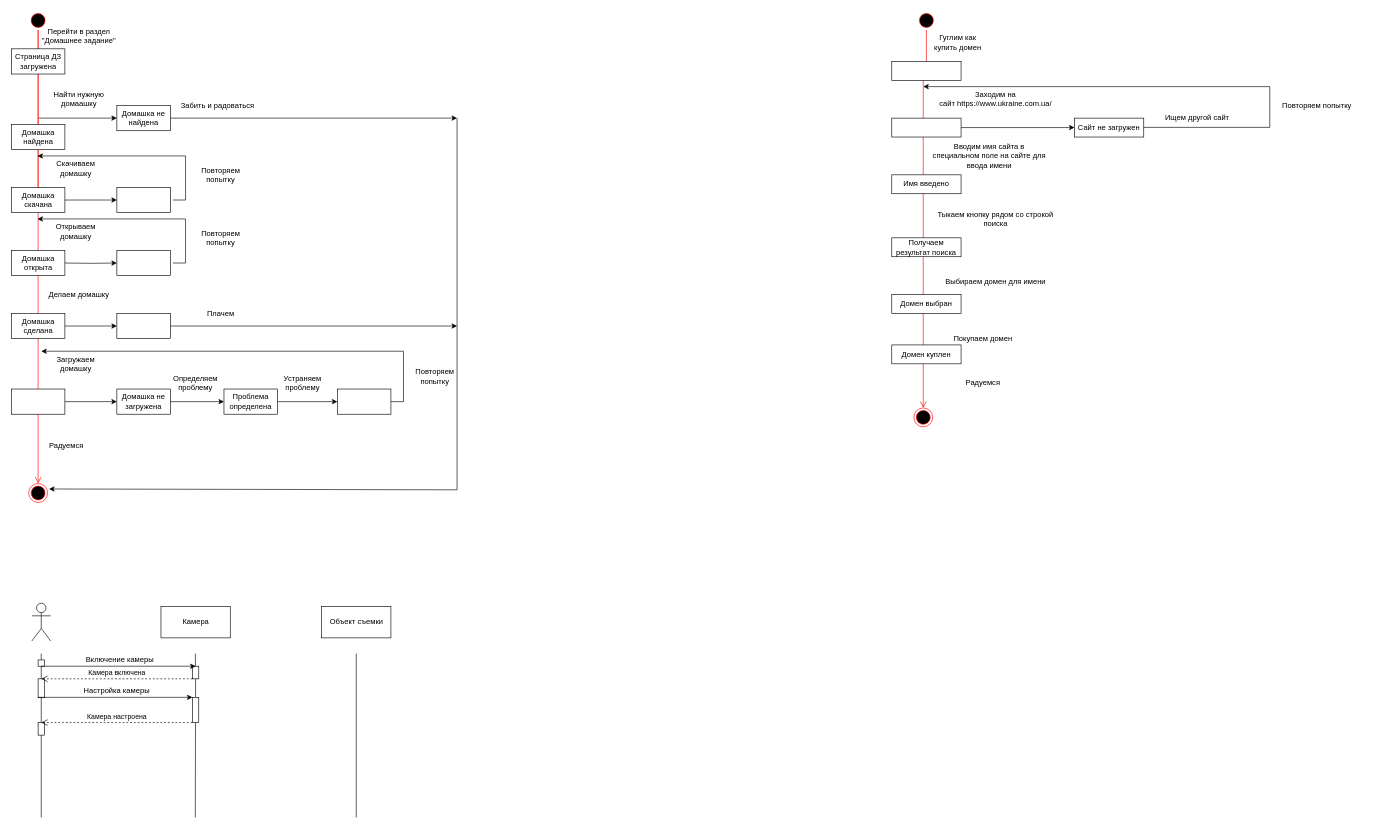
Image size: 1387x829. Some labels were removed from this diagram. Each missing label, with the box of its shape:
Actor: (31, 603, 51, 641)
Гугл говорит нам как купить домен: (891, 61, 961, 80)
Домашка загружена: (11, 388, 65, 414)
Домашка не открыта: (116, 250, 170, 276)
Домашка не сделана: (116, 313, 170, 339)
Домашка не скачана: (116, 187, 170, 213)
Проблема устранена: (337, 388, 391, 414)
Сайт загружен: (891, 117, 961, 137)
